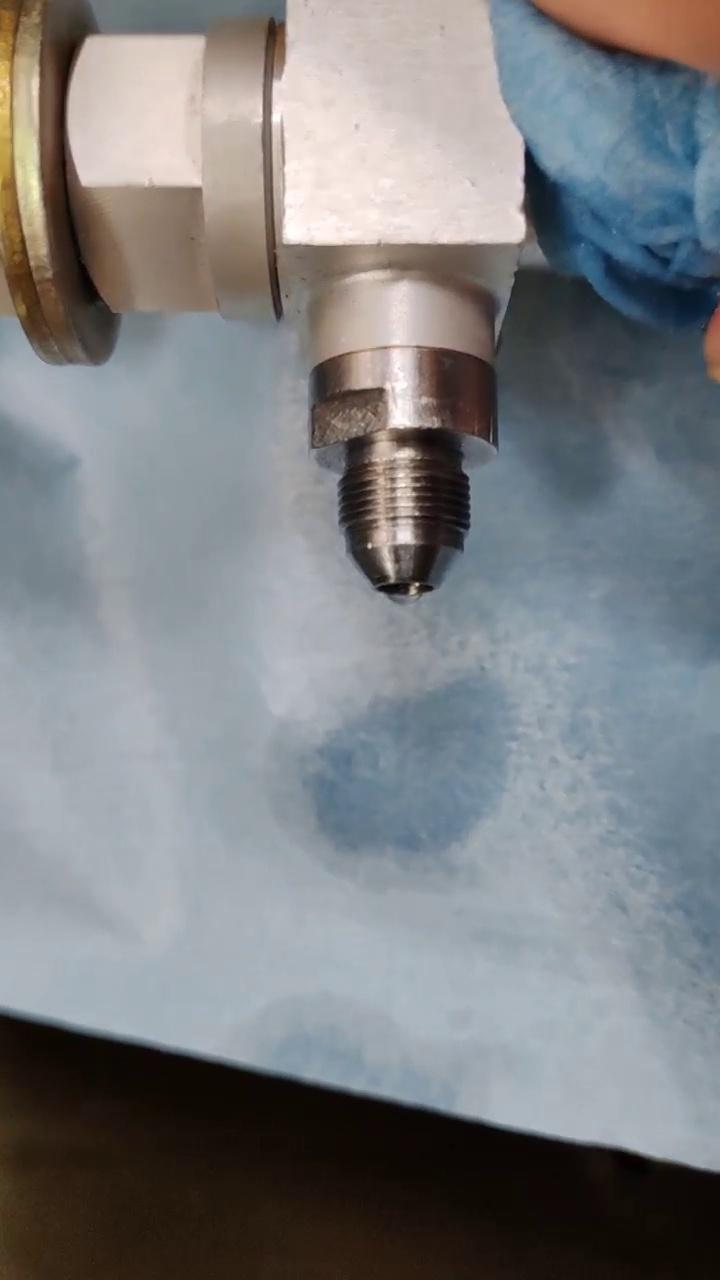water drop: (384, 590, 421, 606)
